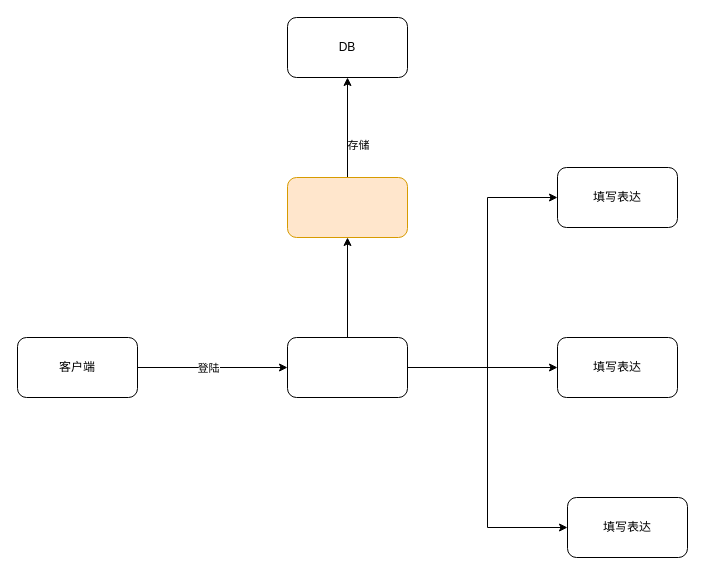
The diagram is 705 pixels wide and 575 high, and some of its shapes have lost their labels. The centre of each missing label's shape, as x and y in pixels:
小程序: point (347, 367)
查询微信用户信息: point (347, 207)
